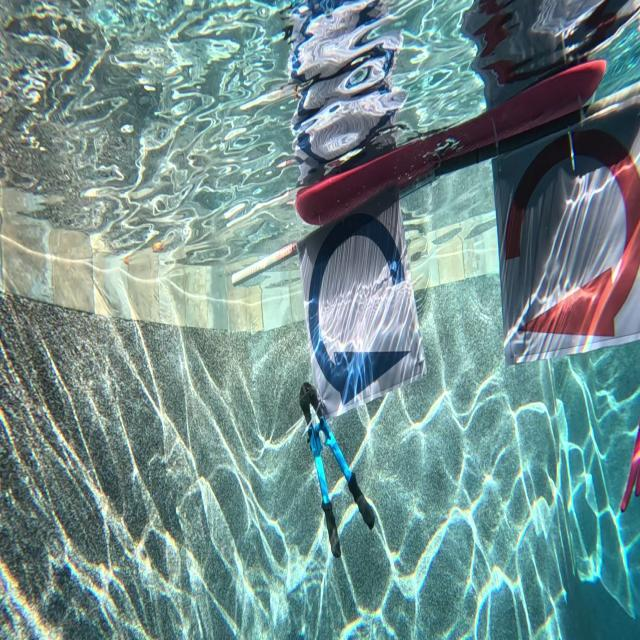blue_side: (296, 190, 423, 417)
red_side: (495, 86, 640, 362)
